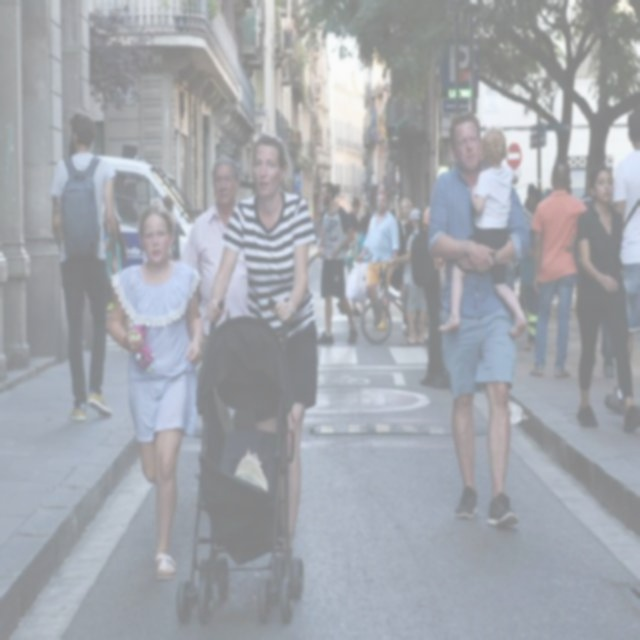pessoa: (203, 131, 320, 571), (426, 109, 533, 528), (104, 203, 204, 580), (47, 102, 120, 424), (436, 123, 530, 341), (572, 161, 639, 437), (179, 154, 252, 338), (530, 160, 587, 378), (606, 108, 640, 418), (312, 178, 360, 346), (410, 204, 453, 390), (355, 191, 400, 332), (391, 207, 432, 349), (396, 197, 414, 332), (524, 180, 556, 213), (356, 214, 372, 256), (348, 194, 362, 231)
